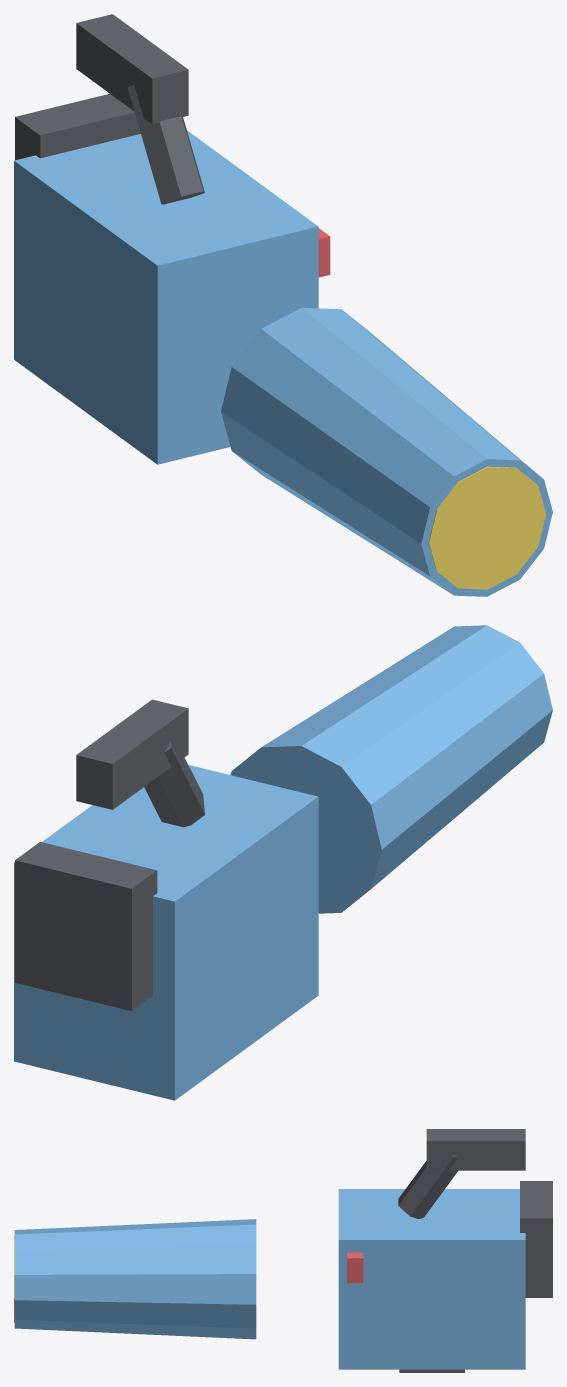
The model's file is lawn-mowing-simulator-kit-leaf-blower-6f406374__27379.glb.
3 renders of one model, top to bottom at view 1: azimuth 30°, elevation 25°; view 2: azimuth 150°, elevation 25°; view 3: azimuth 270°, elevation 25°, orthographic. The views are drawn at different scales.
Visible parts, largest first — view 1: leaf-blower; view 2: leaf-blower; view 3: leaf-blower.
Boxes of the visible parts, x1,y1,x2,y2 form: leaf-blower: (14,14,552,596); leaf-blower: (14,625,552,1100); leaf-blower: (14,1129,552,1372).
Bounding box in the file's own units: 0.245 × 0.45 × 0.9812.
